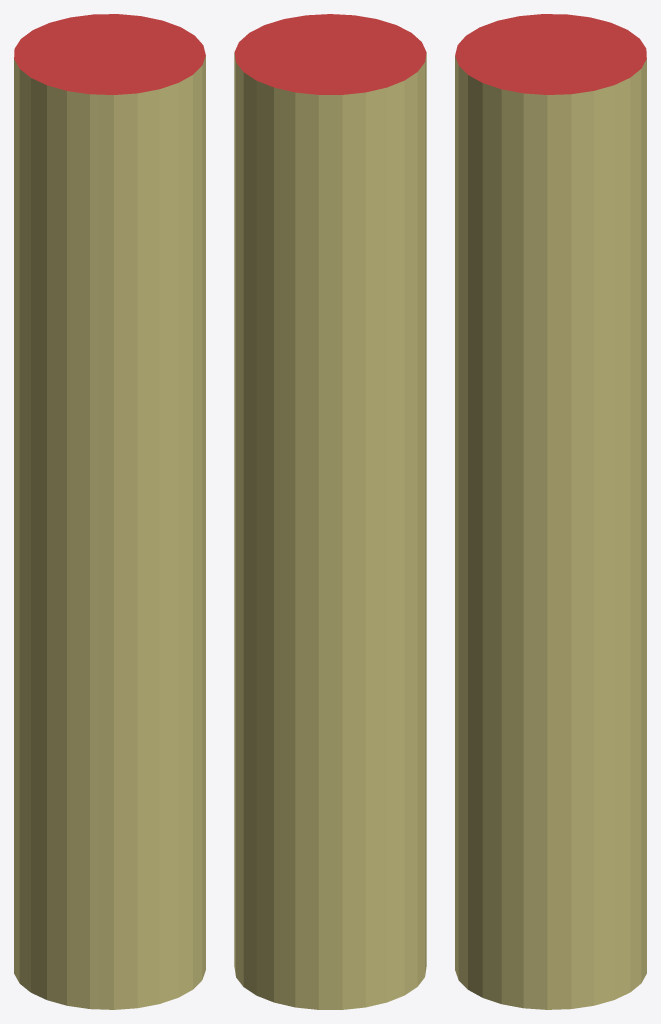
The picture shows the model from 3 angles, left to right: view 1: azimuth 30°, elevation 25°; view 2: azimuth 150°, elevation 25°; view 3: azimuth 270°, elevation 25°; orthographic projection.
Size of the model in its own units: 3.17 by 3.16 by 16.65.
